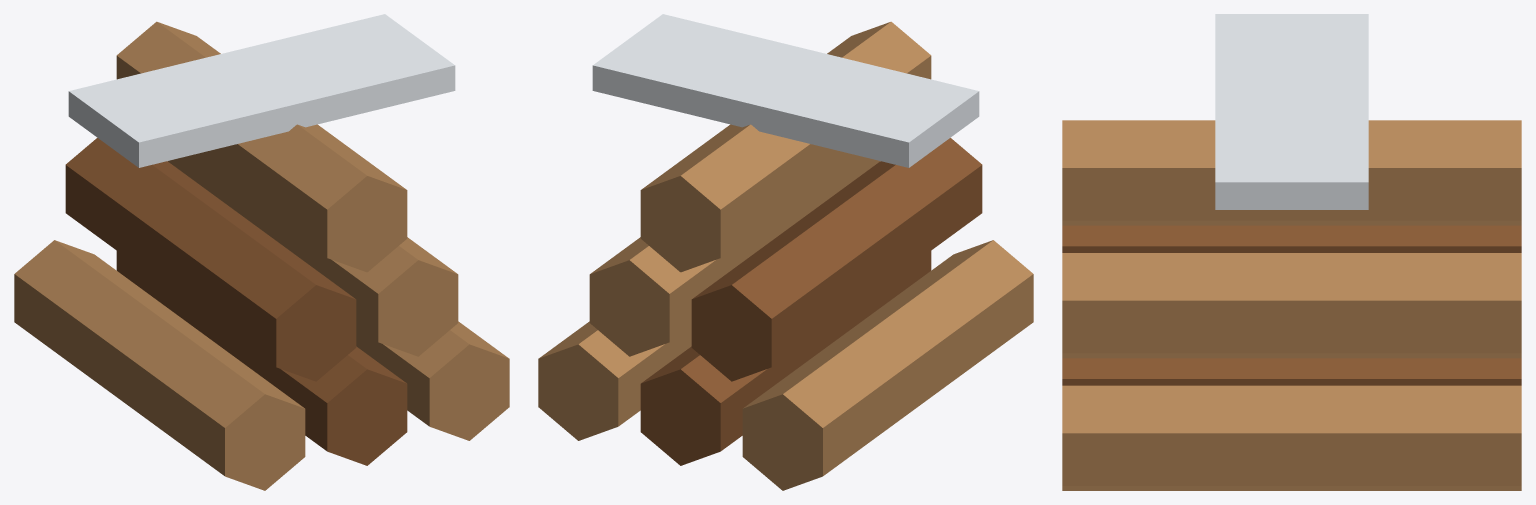
The model's file is prop_logs.glb.
3 renders of one model, left to right at view 1: azimuth 30°, elevation 25°; view 2: azimuth 150°, elevation 25°; view 3: azimuth 270°, elevation 25°, orthographic. The views are drawn at different scales.
Parts seen in each view (by area): view 1: prop_logs; view 2: prop_logs; view 3: prop_logs.
Boxes of the visible parts, x1,y1,x2,y2 form: prop_logs: (14,14,509,490); prop_logs: (538,14,1033,490); prop_logs: (1062,14,1521,490).
Bounding box in the file's own units: 1.3 × 1.22 × 1.5.
Materials: 1 (1 with a texture image).
